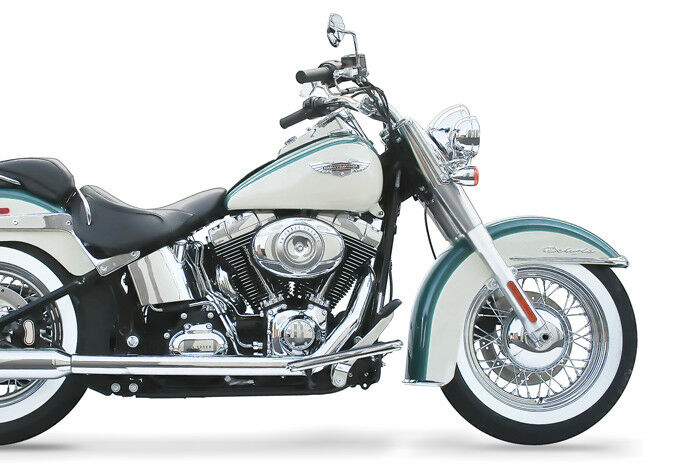Motor Cycle: (1, 52, 641, 443)
